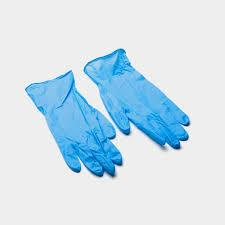Glove: (84, 49, 188, 148), (26, 71, 121, 175)
